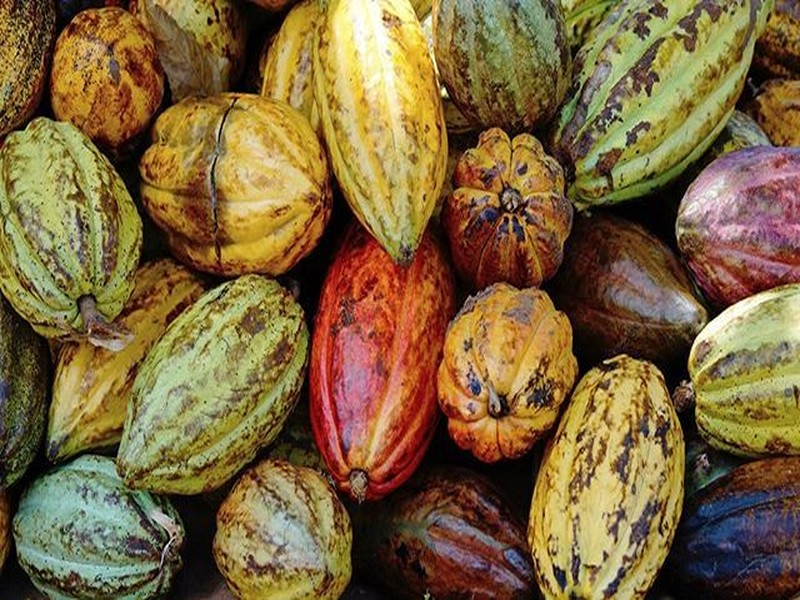Cacaopod: (114, 272, 303, 493), (315, 2, 437, 261), (437, 284, 565, 463)
